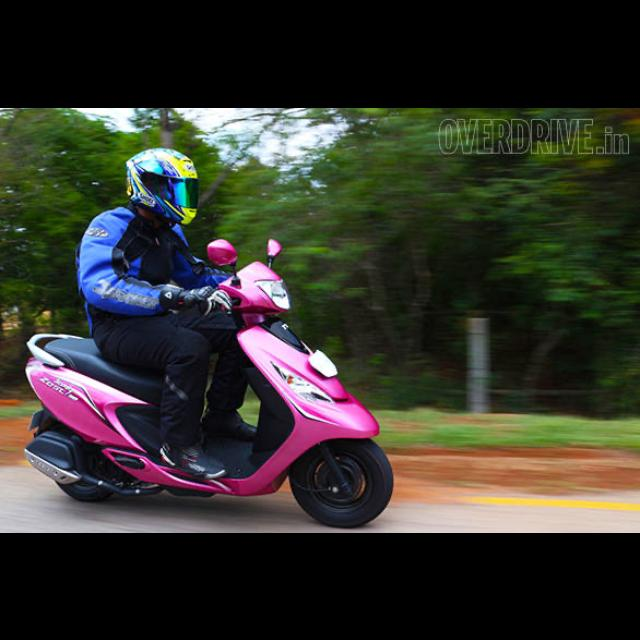With Helmet: (120, 142, 206, 226)
